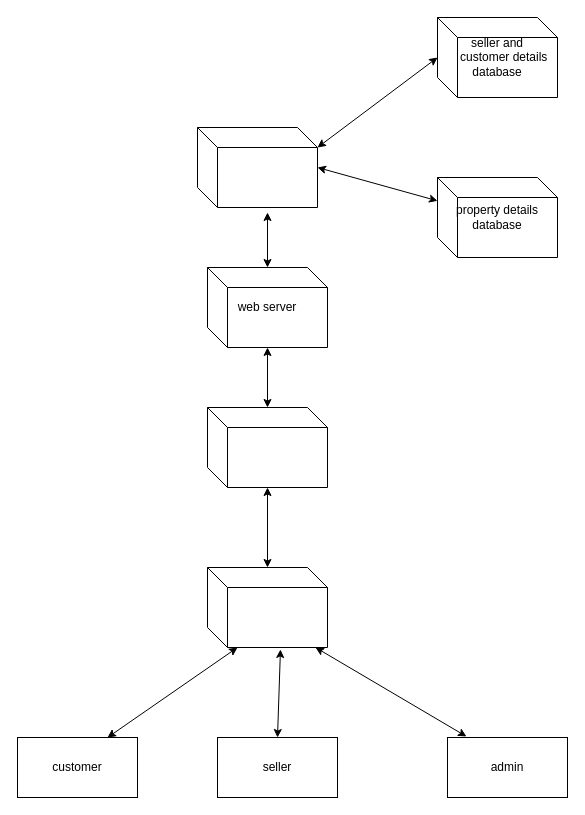
This 585x815 diagram has some shape labels left out. The shapes that lost their labels are listed below. From the top down, each one's centre as x and y in pixels, then its label:
the point at 257,167: database server
the point at 267,447: local server
the point at 267,607: real estate management system
